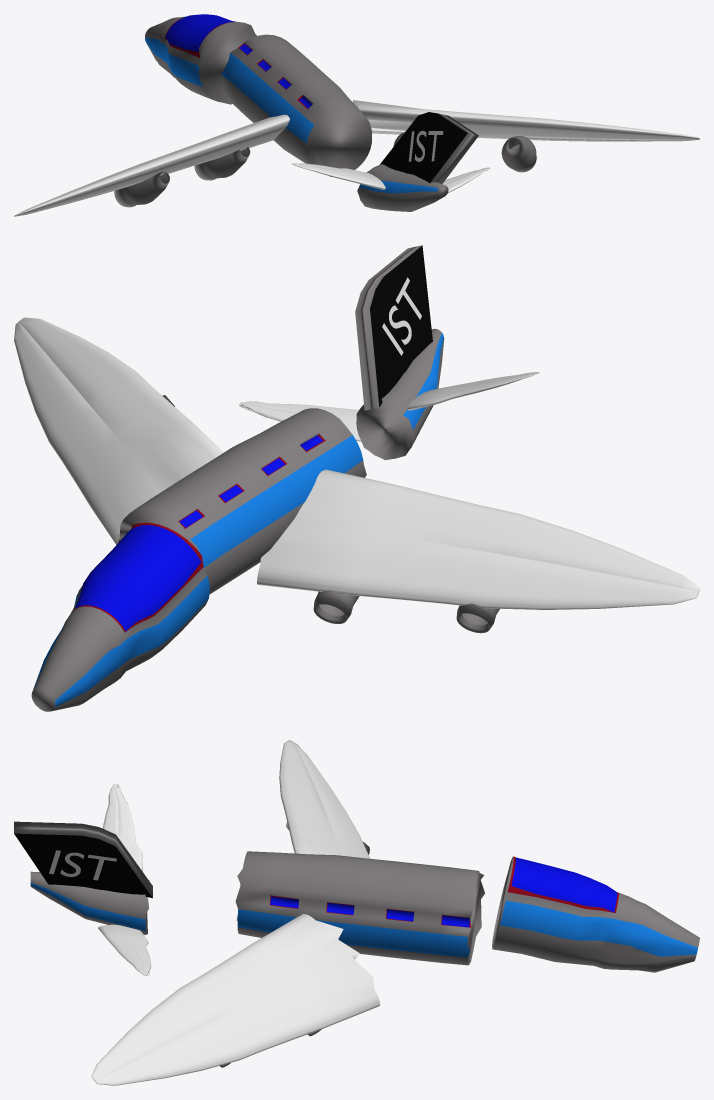
Rendered from самолет_лом.fbx.
The picture shows the model from 3 angles, top to bottom: view 1: azimuth 30°, elevation 25°; view 2: azimuth 150°, elevation 25°; view 3: azimuth 270°, elevation 25°; orthographic projection. The views are drawn at different scales.
Visible parts, largest first — view 1: Цилиндр, Цилиндр.006, Куб.001, Куб, Куб.004, Цилиндр.005, Цилиндр.004, Цилиндр.002, Цилиндр.001, Куб.003, Куб.002, Текст.001; view 2: Куб, Куб.001, Цилиндр, Цилиндр.006, Куб.004, Цилиндр.005, Куб.003, Куб.002, Цилиндр.001, Цилиндр.004, Текст.001; view 3: Куб.001, Цилиндр, Цилиндр.006, Куб.004, Куб, Цилиндр.005, Куб.003, Куб.002, Текст.
Boxes of the visible parts, bbox=[...] form: Цилиндр: bbox=[221, 34, 371, 176]; Цилиндр.006: bbox=[145, 14, 256, 104]; Куб.001: bbox=[353, 100, 699, 141]; Куб: bbox=[14, 114, 289, 216]; Куб.004: bbox=[379, 112, 478, 183]; Цилиндр.005: bbox=[357, 164, 448, 211]; Цилиндр.004: bbox=[114, 171, 169, 207]; Цилиндр.002: bbox=[501, 136, 536, 172]; Цилиндр.001: bbox=[194, 147, 250, 180]; Куб.003: bbox=[291, 163, 385, 189]; Куб.002: bbox=[442, 167, 489, 192]; Текст.001: bbox=[408, 130, 443, 161]; Куб: bbox=[257, 469, 699, 609]; Куб.001: bbox=[14, 317, 223, 544]; Цилиндр: bbox=[118, 408, 366, 593]; Цилиндр.006: bbox=[31, 522, 209, 711]; Куб.004: bbox=[355, 245, 432, 410]; Цилиндр.005: bbox=[356, 328, 444, 460]; Куб.003: bbox=[407, 372, 539, 410]; Куб.002: bbox=[239, 401, 361, 441]; Цилиндр.001: bbox=[313, 590, 359, 623]; Цилиндр.004: bbox=[456, 603, 499, 633]; Текст.001: bbox=[382, 277, 421, 355]; Куб.001: bbox=[91, 913, 380, 1085]; Цилиндр: bbox=[235, 851, 484, 965]; Цилиндр.006: bbox=[492, 856, 699, 972]; Куб.004: bbox=[14, 821, 152, 898]; Куб: bbox=[279, 740, 370, 858]; Цилиндр.005: bbox=[30, 871, 149, 934]; Куб.003: bbox=[102, 784, 142, 871]; Куб.002: bbox=[98, 924, 151, 975]; Текст: bbox=[49, 850, 116, 880].
Size of the model in its own units: 1542 by 367 by 1340.
